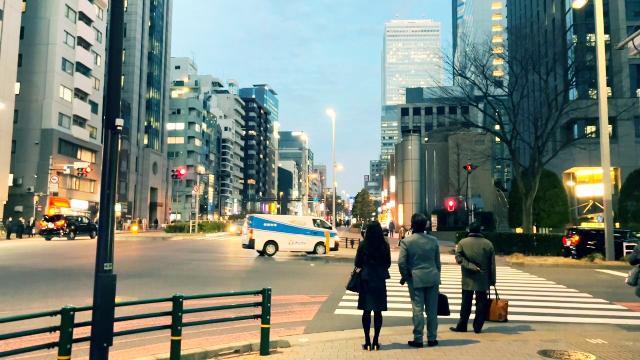berdiri: (394, 206, 446, 348), (345, 218, 391, 352), (451, 221, 502, 338)
